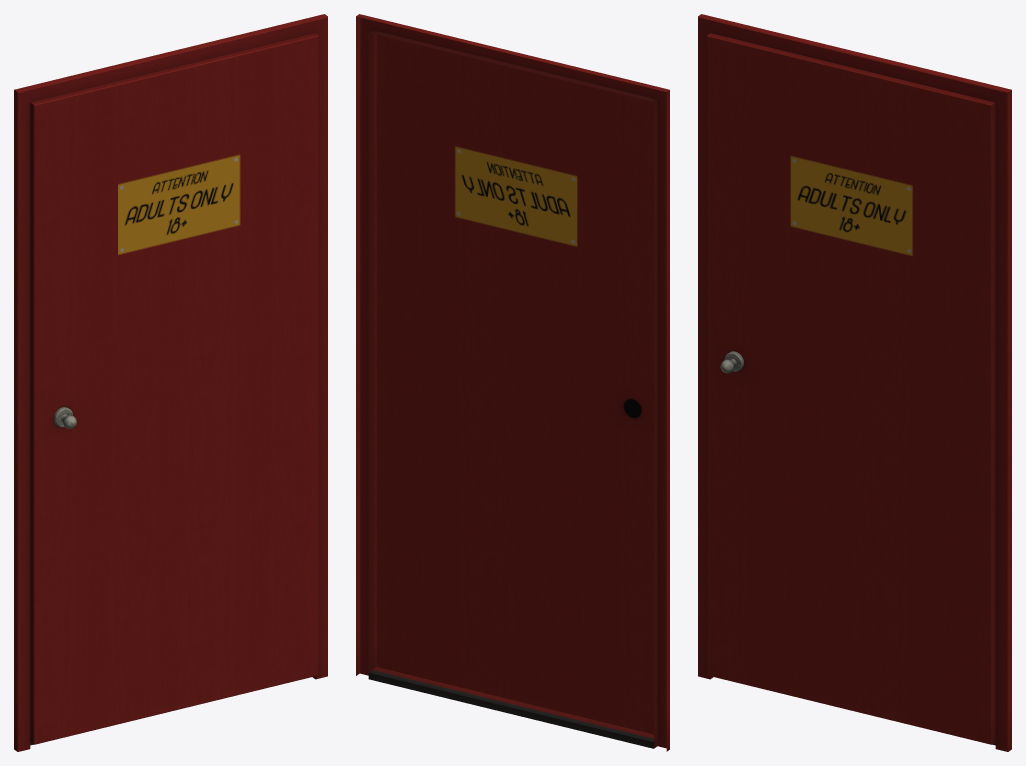
File: video_store_adults_door.fbx
3 views of the same model, side by side, from view 1: azimuth 30°, elevation 25°; view 2: azimuth 150°, elevation 25°; view 3: azimuth 330°, elevation 25° (orthographic).
Parts seen in each view (by area): view 1: Mesh3_Group4_Group1_Model; view 2: Mesh3_Group4_Group1_Model; view 3: Mesh3_Group4_Group1_Model.
Boxes of the visible parts, <box> form: Mesh3_Group4_Group1_Model: <box>14,14,327,751</box>; Mesh3_Group4_Group1_Model: <box>356,14,669,751</box>; Mesh3_Group4_Group1_Model: <box>698,14,1011,751</box>.
Size of the model in its own units: 98 by 199 by 10.
Materials: 1 (1 with a texture image).
